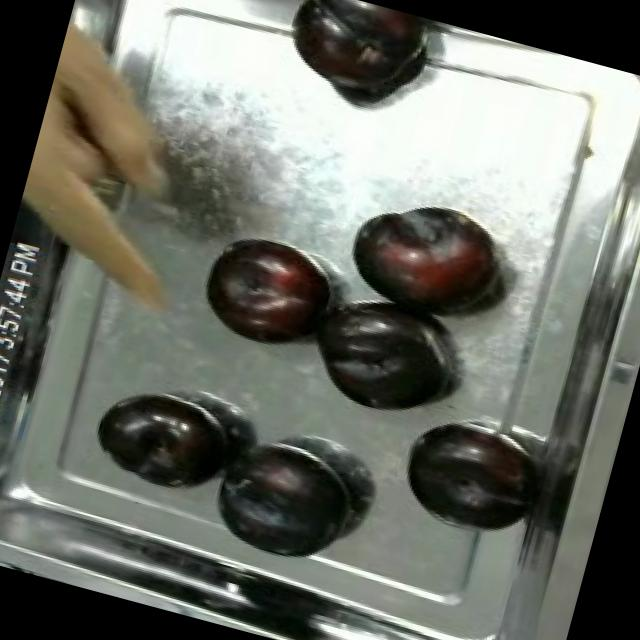Fruit: (332, 178, 519, 336), (195, 425, 369, 576), (288, 294, 463, 430), (80, 374, 249, 506), (390, 404, 546, 544), (190, 224, 346, 363), (271, 0, 441, 118)
